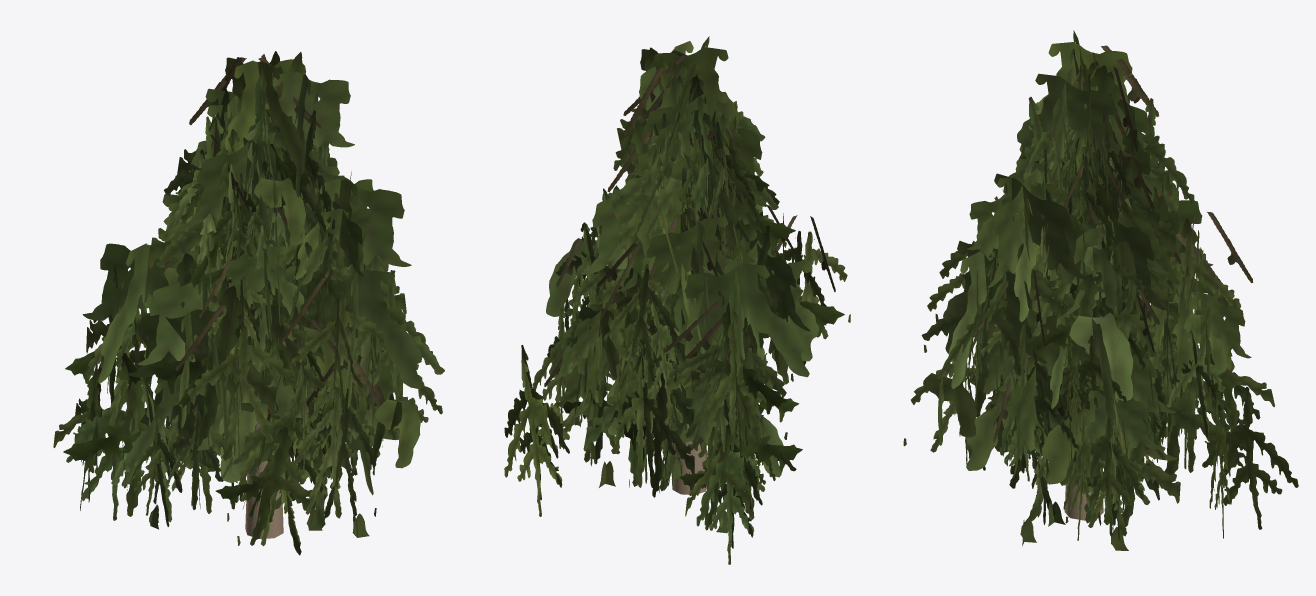
File: pine-tree-lod1.glb
The picture shows the model from 3 angles, left to right: view 1: azimuth 30°, elevation 25°; view 2: azimuth 150°, elevation 25°; view 3: azimuth 270°, elevation 25°; orthographic projection. The views are drawn at different scales.
Parts seen in each view (by area): view 1: foliage, trunk; view 2: foliage, trunk; view 3: foliage, trunk.
Boxes of the visible parts, box(x1,y1,x2,y2) form: foliage: box(53, 51, 444, 555); trunk: box(245, 423, 283, 538); foliage: box(504, 36, 850, 564); trunk: box(672, 424, 706, 494); foliage: box(903, 30, 1298, 550); trunk: box(1064, 461, 1103, 520).
Bounding box in the file's own units: 0.9312 × 1.24 × 0.9621.
Materials: 2 (1 with a texture image).
